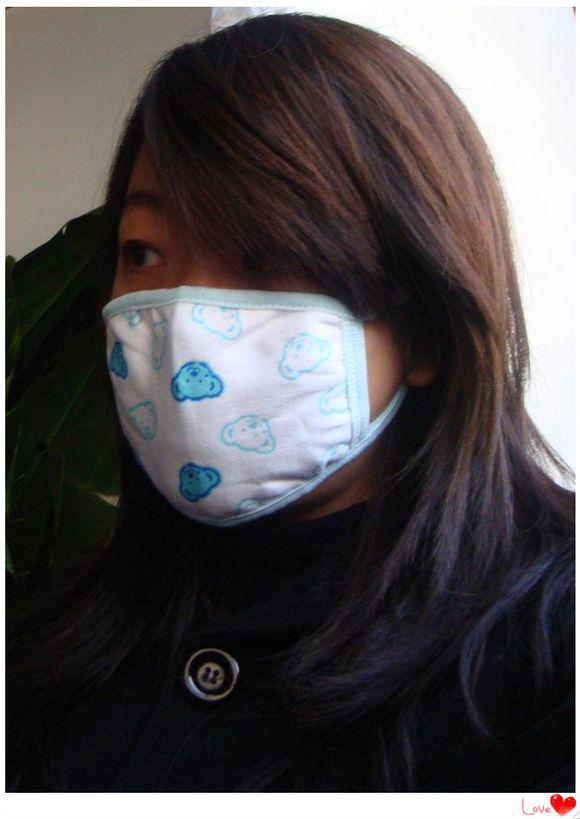OK: (96, 182, 425, 511)
